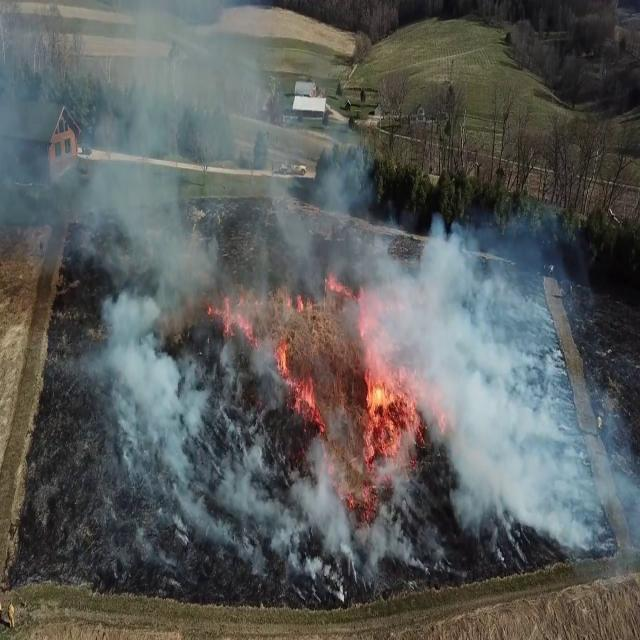Fire: (357, 346, 423, 472)
Smoke: (3, 5, 350, 590), (343, 214, 621, 582)
